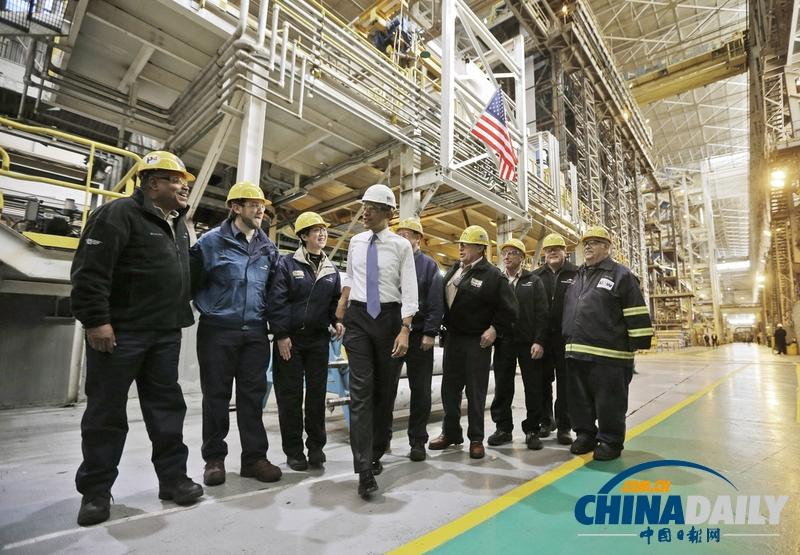helmet: (135, 147, 196, 186), (223, 178, 267, 207), (357, 182, 401, 210), (287, 210, 330, 236), (455, 224, 493, 250), (579, 226, 613, 244), (395, 218, 424, 238), (540, 233, 570, 250), (501, 238, 527, 257)
no_wear: (342, 231, 414, 311)
wear: (78, 200, 187, 342), (197, 227, 275, 329), (564, 259, 637, 367), (275, 252, 336, 340), (447, 262, 505, 335), (501, 269, 543, 342), (538, 266, 575, 314)
